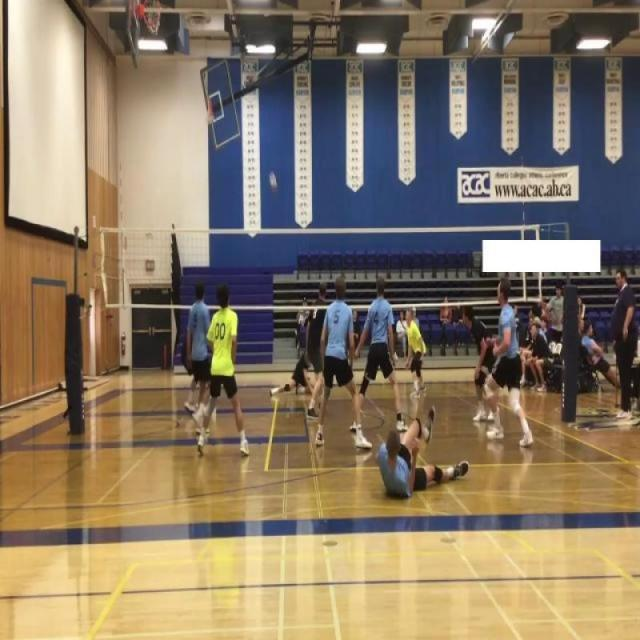volleyball: (268, 170, 278, 193)
